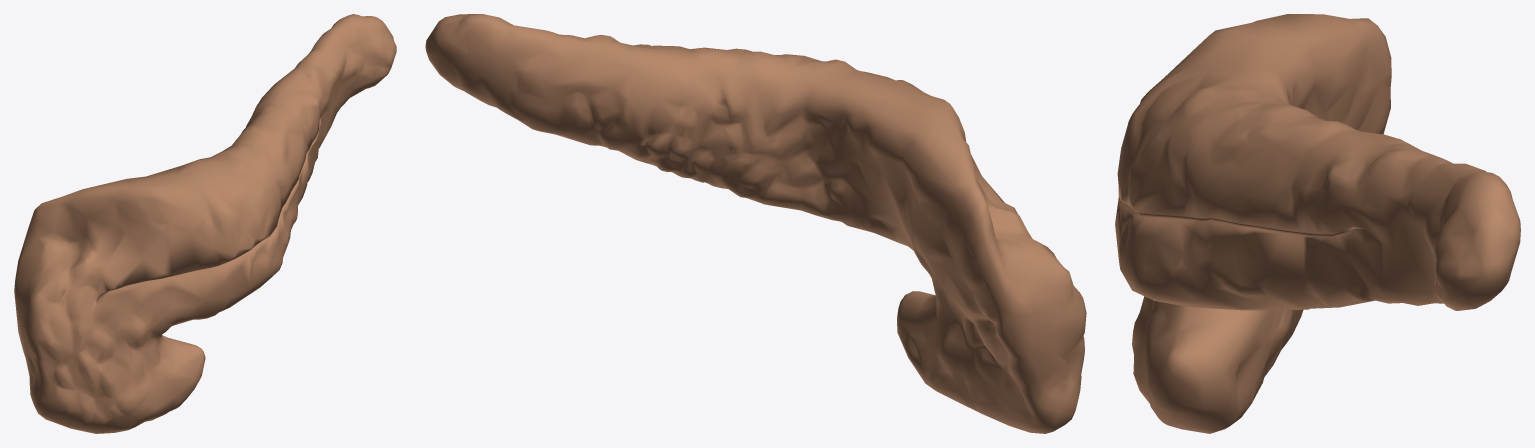
Rendered from pancreas.glb.
3 renders of one model, left to right at view 1: azimuth 30°, elevation 25°; view 2: azimuth 150°, elevation 25°; view 3: azimuth 270°, elevation 25°, orthographic. The views are drawn at different scales.
Visible parts, largest first — view 1: pancreas; view 2: pancreas; view 3: pancreas.
Boxes of the visible parts, <box> form: pancreas: <box>14,14,396,433</box>; pancreas: <box>425,14,1086,433</box>; pancreas: <box>1115,14,1520,433</box>.
Size of the model in its own units: 0.1181 by 0.0737 by 0.0534.
